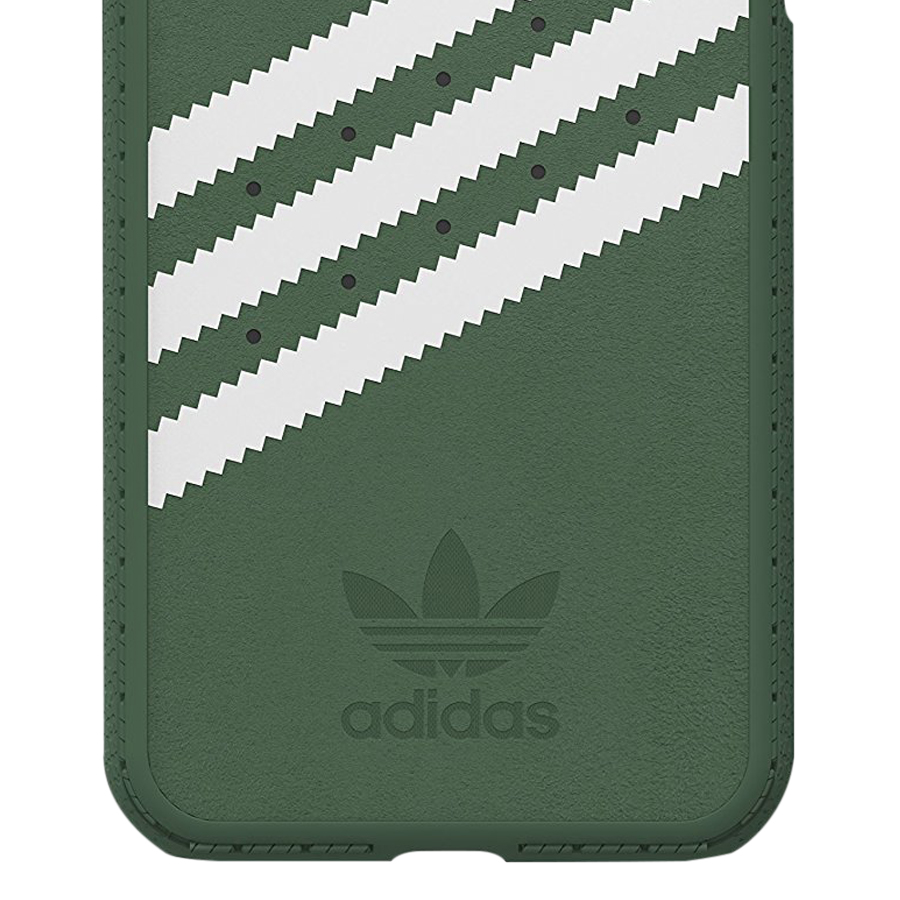Adidas: (324, 526, 593, 753)
